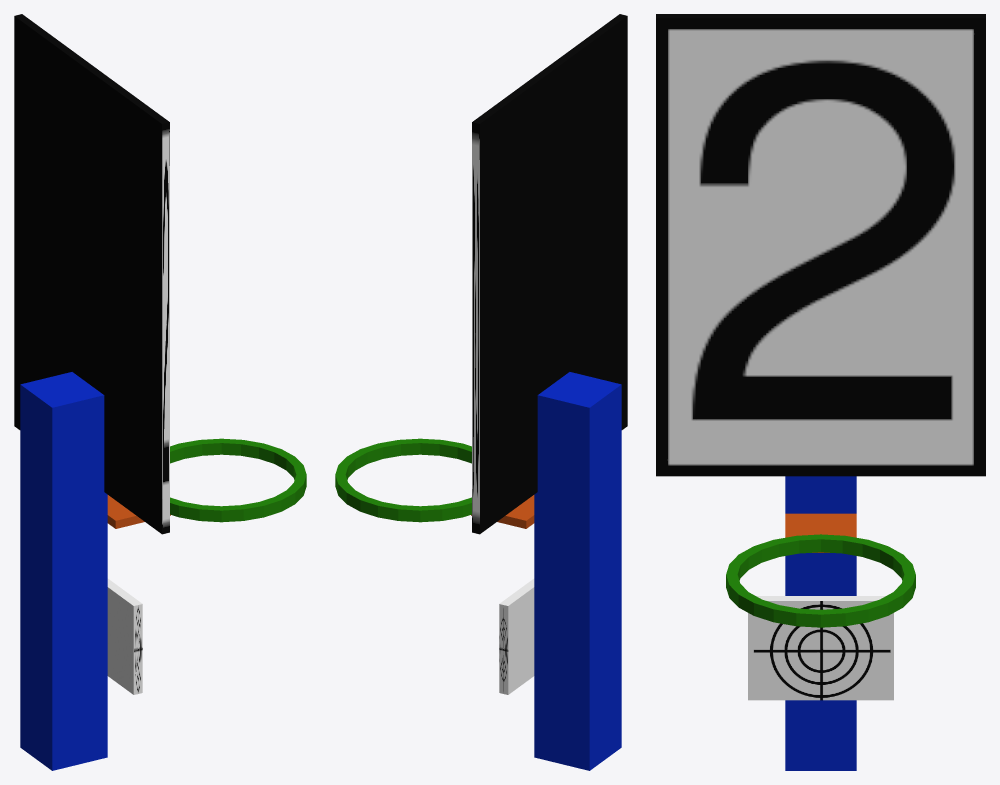
Rendered from sick_robot_day_2014_target_station_complete_2.dae.
The picture shows the model from 3 angles, left to right: view 1: azimuth 30°, elevation 25°; view 2: azimuth 150°, elevation 25°; view 3: azimuth 270°, elevation 25°; orthographic projection. The views are drawn at different scales.
Visible parts, largest first — view 1: Cube, Cube_003, Cylinder, Cube_001, Cube_004; view 2: Cube, Cube_003, Cylinder, Cube_001, Cube_004; view 3: Cube, Cube_001, Cube_003, Cylinder, Cube_004.
Part boxes in pixels (bbox=[...]): Cube: bbox=[14, 14, 169, 534]; Cube_003: bbox=[20, 372, 107, 770]; Cylinder: bbox=[170, 438, 306, 522]; Cube_001: bbox=[107, 578, 142, 694]; Cube_004: bbox=[107, 495, 170, 528]; Cube: bbox=[472, 14, 627, 534]; Cube_003: bbox=[534, 372, 621, 770]; Cylinder: bbox=[335, 438, 471, 522]; Cube_001: bbox=[499, 578, 534, 694]; Cube_004: bbox=[471, 495, 534, 528]; Cube: bbox=[656, 14, 985, 476]; Cube_001: bbox=[748, 596, 893, 700]; Cube_003: bbox=[785, 476, 856, 770]; Cylinder: bbox=[726, 534, 915, 627]; Cube_004: bbox=[785, 513, 856, 552].
Bounding box in the file's own units: 0.5801 × 0.5736 × 1.45.
5 materials, 2 textured.
